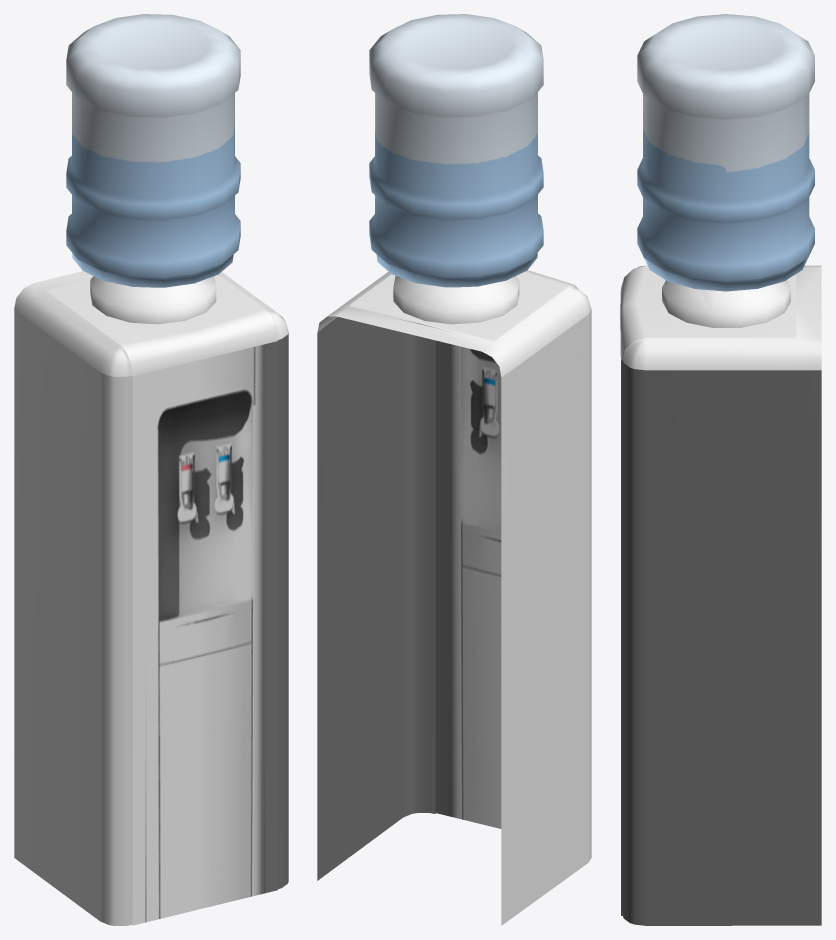
File: Office_WaterCooler_1_Low.fbx
3 renders of one model, left to right at view 1: azimuth 30°, elevation 25°; view 2: azimuth 150°, elevation 25°; view 3: azimuth 270°, elevation 25°, orthographic.
Parts seen in each view (by area): view 1: Office_WaterCooler_1_Low; view 2: Office_WaterCooler_1_Low; view 3: Office_WaterCooler_1_Low.
Boxes of the visible parts, left/top/right/bottom form: Office_WaterCooler_1_Low: left=14, top=14, right=288, bottom=925; Office_WaterCooler_1_Low: left=317, top=14, right=591, bottom=925; Office_WaterCooler_1_Low: left=620, top=14, right=821, bottom=925.
Bounding box in the file's own units: 33.06 × 140 × 30.72.
